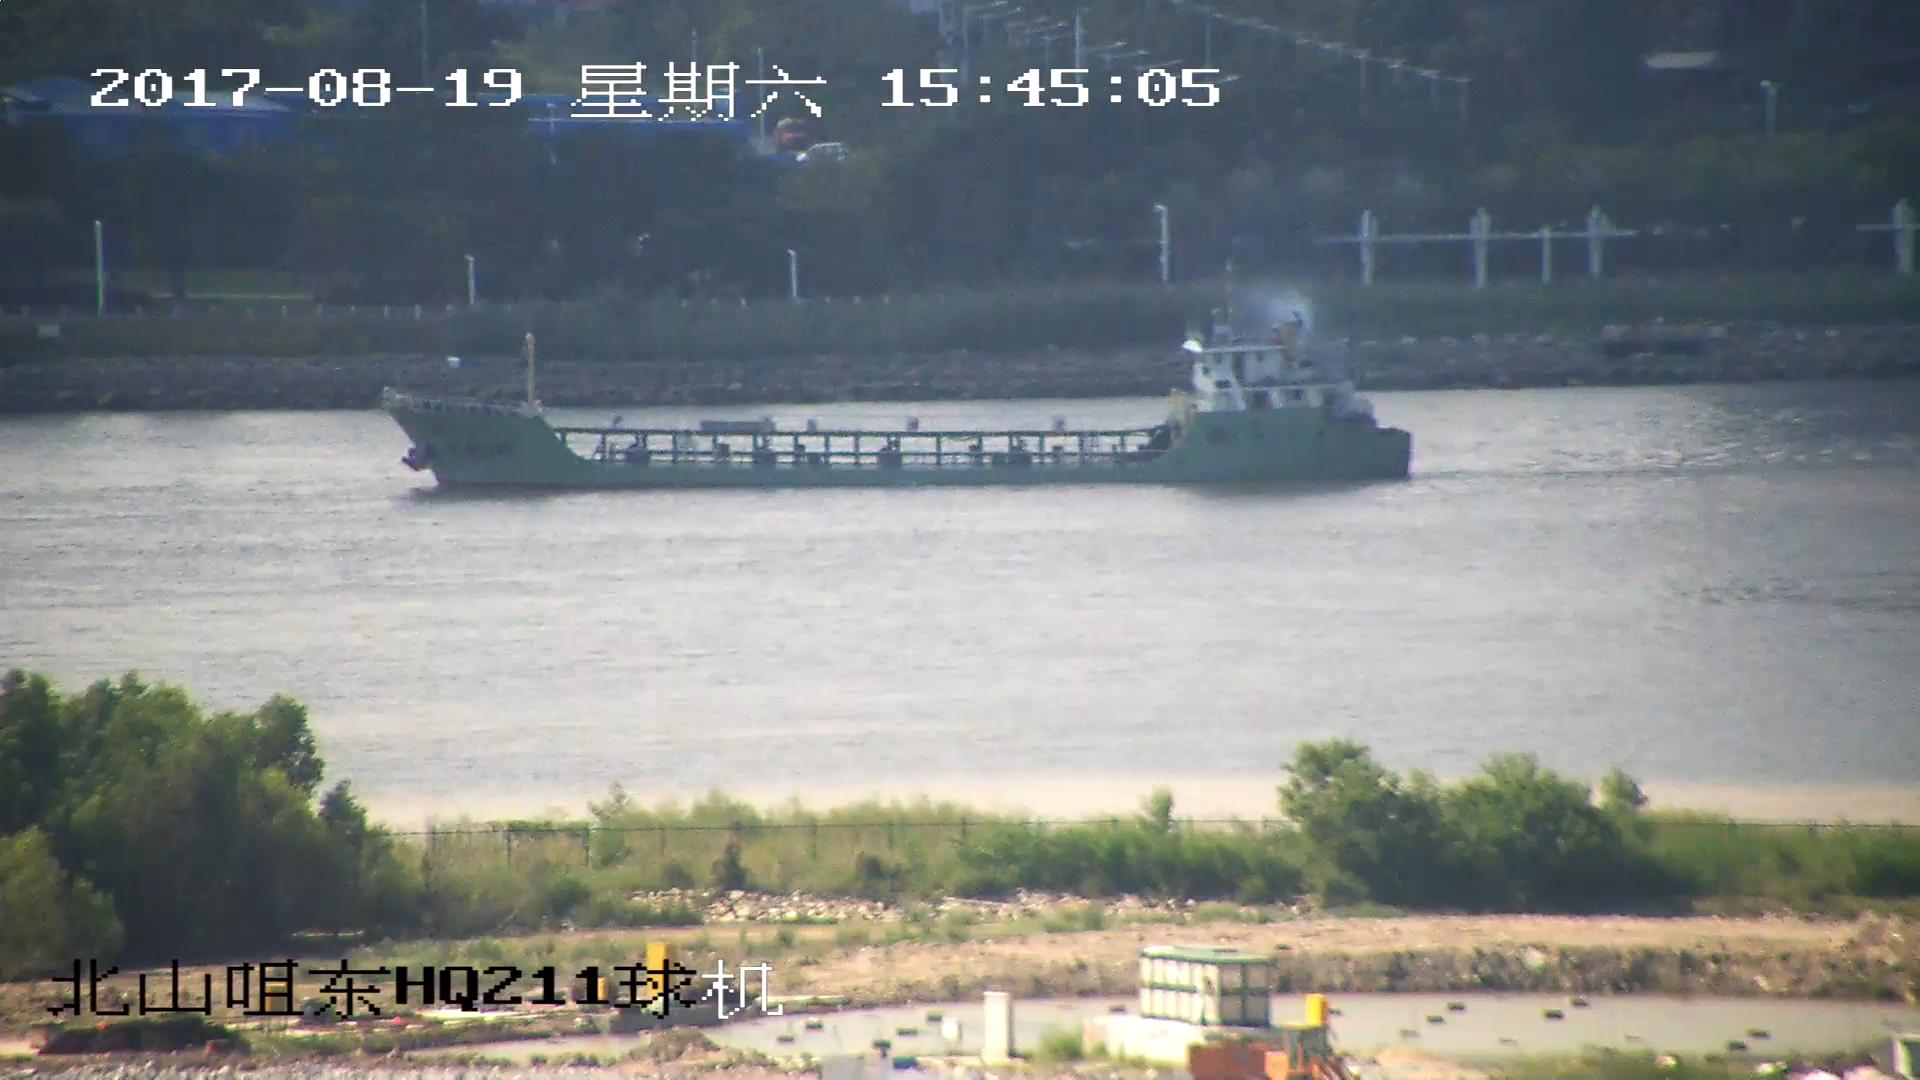general cargo ship: (389, 269, 1414, 485)
